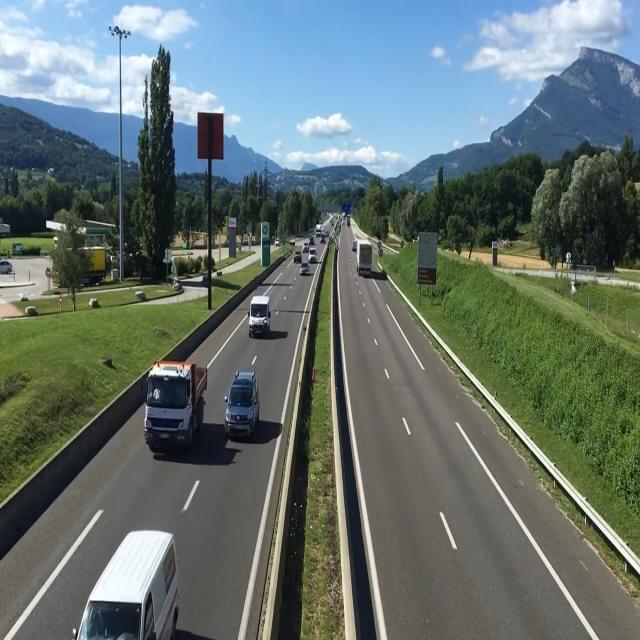car: (65, 535, 186, 640), (224, 366, 260, 446), (248, 287, 278, 343), (298, 259, 312, 278)
truck: (144, 348, 202, 455), (350, 225, 381, 280)
